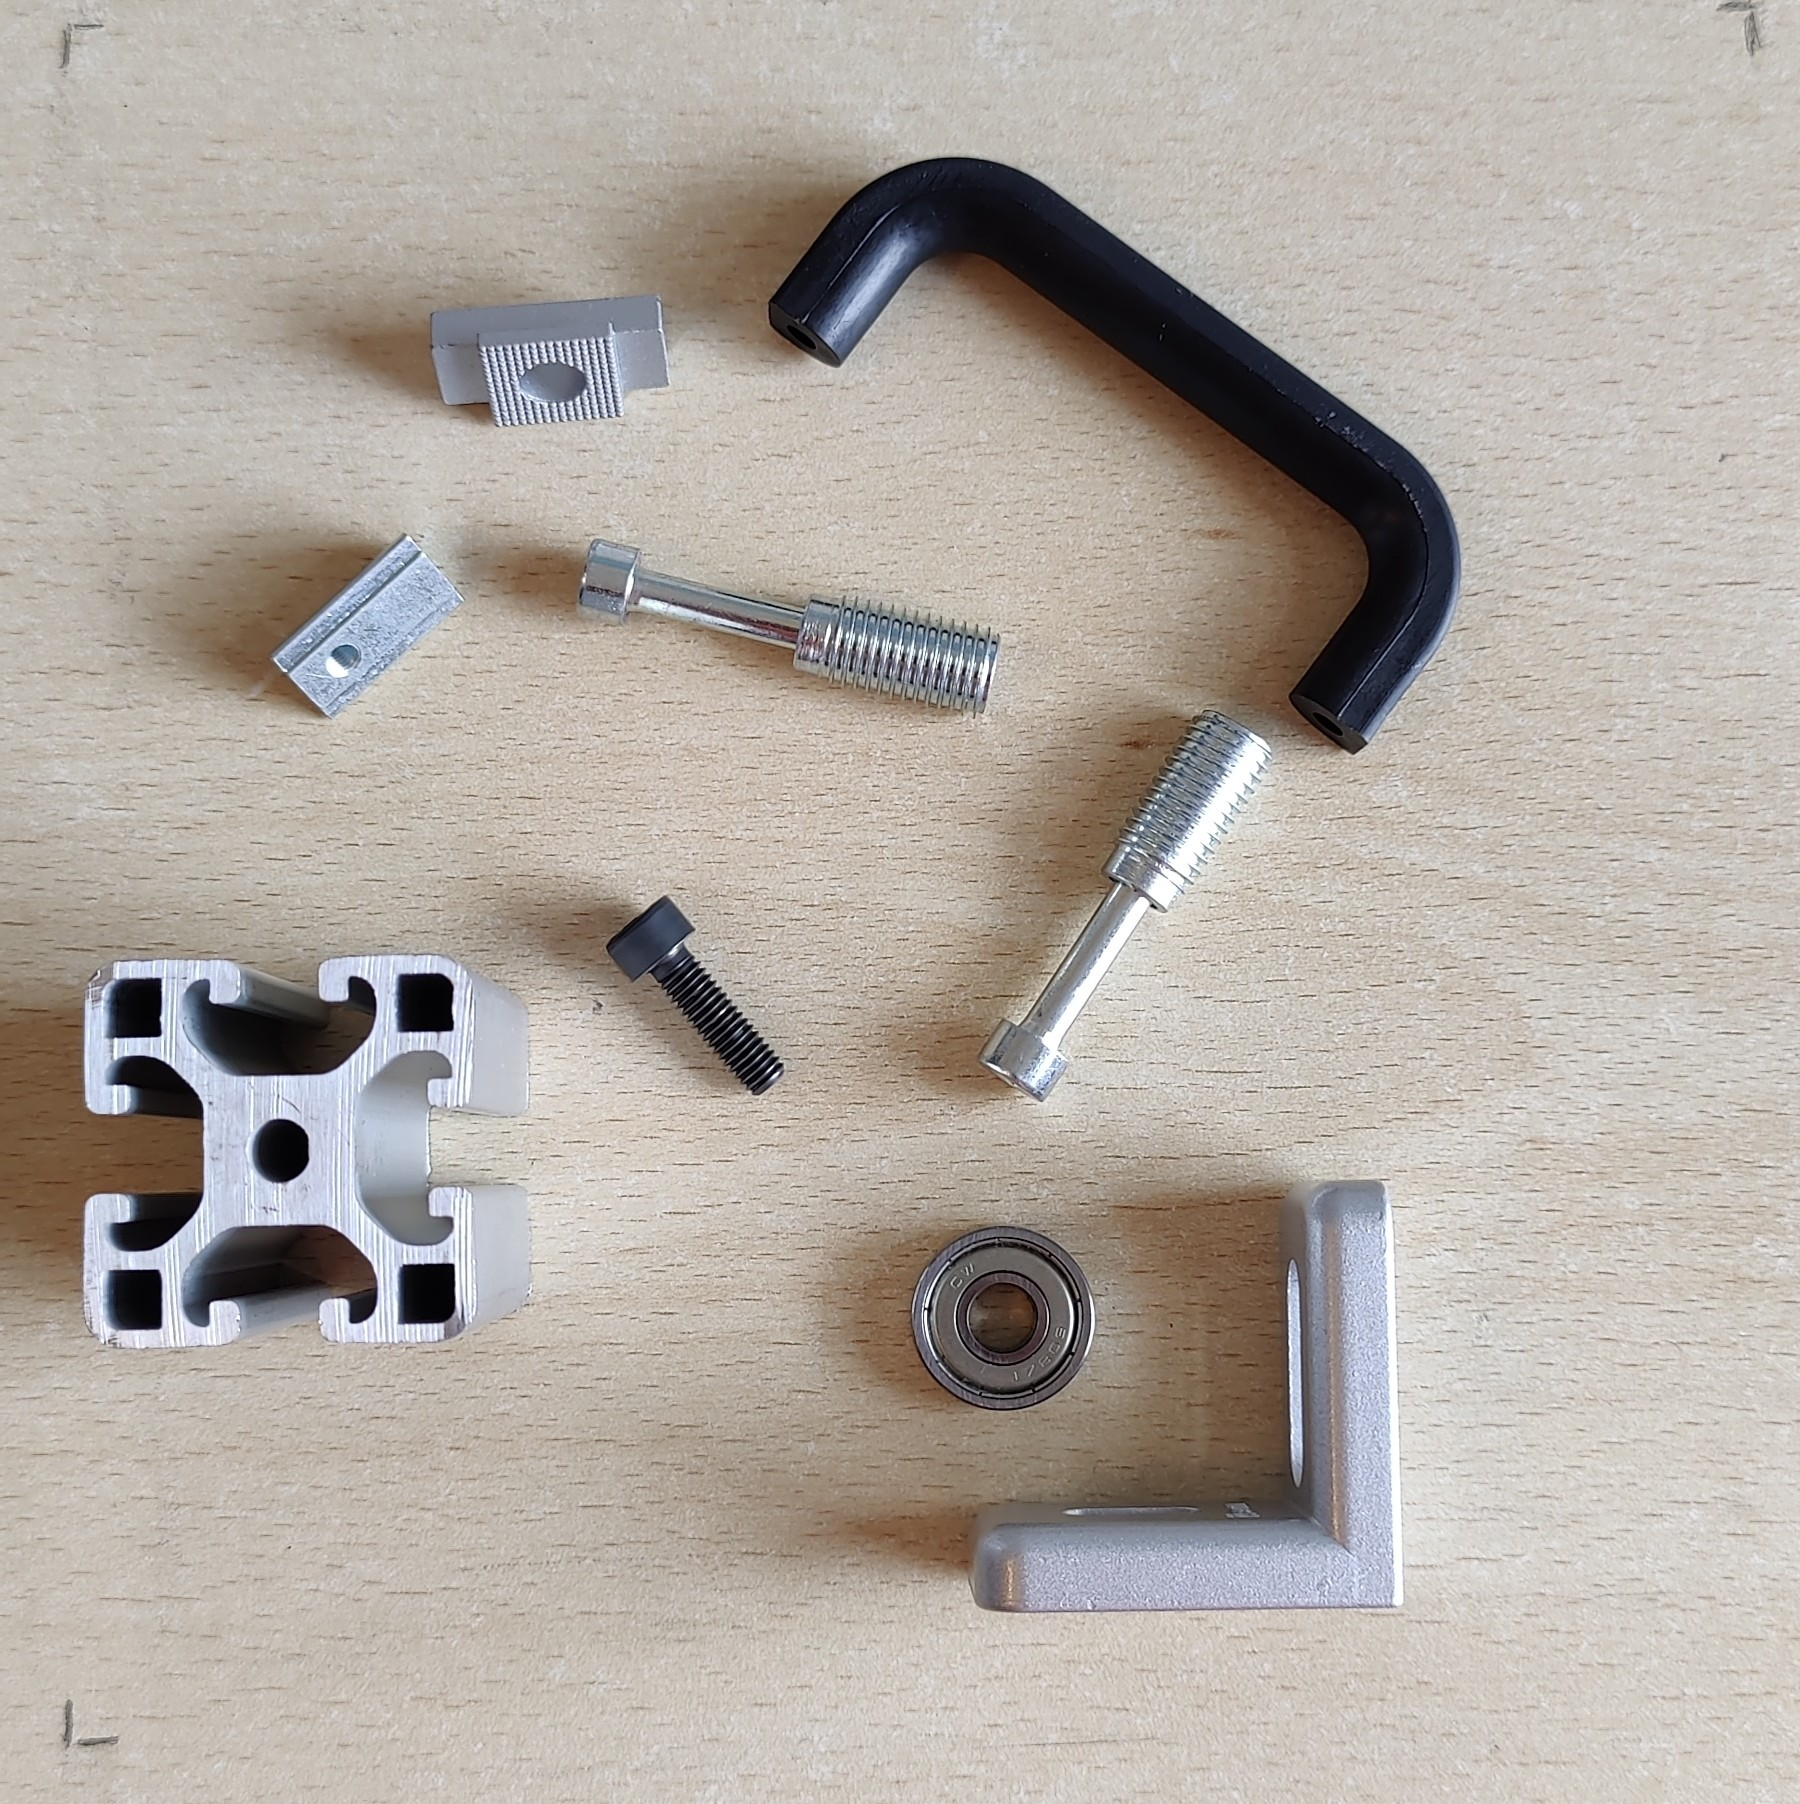Aluminium Extension: (77, 951, 536, 1355)
Ball Bearing: (910, 1224, 1099, 1413)
Multiwinkel: (963, 1179, 1408, 1616)
Pull Handle: (763, 148, 1465, 757)
Shoulder Socket Head Cap Screw: (974, 704, 1274, 1105), (574, 536, 1002, 717)
Socket Head Cap Screw: (603, 889, 786, 1098)
T Nut Square: (427, 289, 676, 430)
T Spring Nut: (267, 529, 466, 722)
